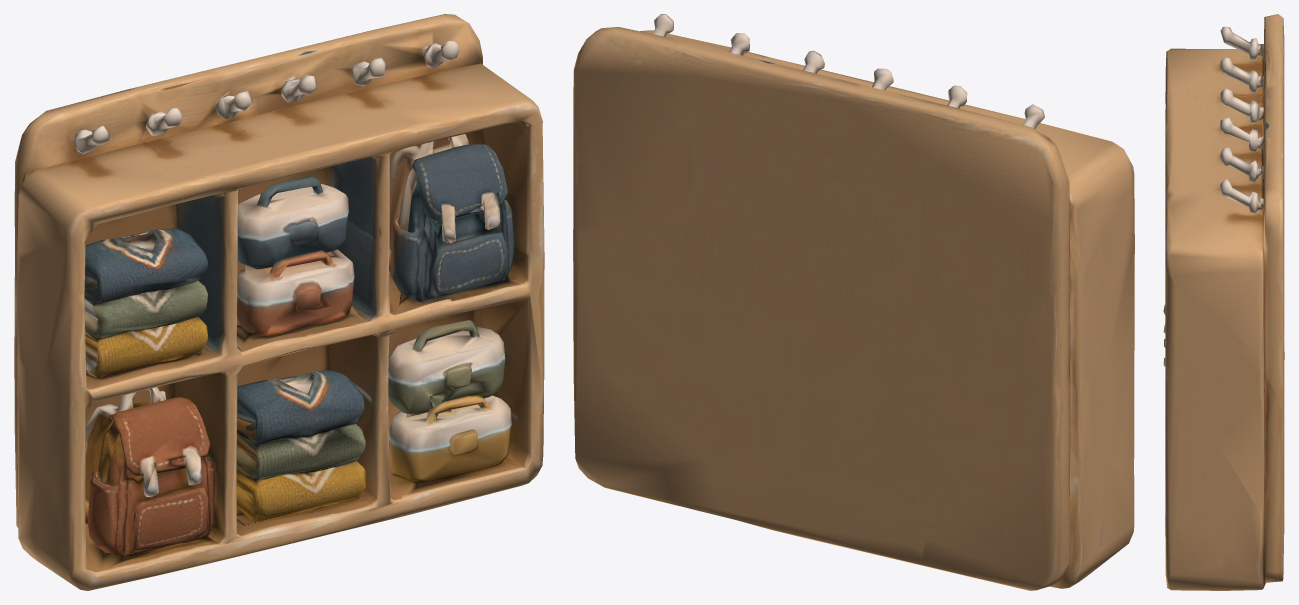
The model's file is lockers.high.glb.
3 renders of one model, left to right at view 1: azimuth 30°, elevation 25°; view 2: azimuth 150°, elevation 25°; view 3: azimuth 270°, elevation 25°, orthographic. The views are drawn at different scales.
Parts seen in each view (by area): view 1: tripo_node_b0fce065-342c-4e43-a012-e1b093b84d35; view 2: tripo_node_b0fce065-342c-4e43-a012-e1b093b84d35; view 3: tripo_node_b0fce065-342c-4e43-a012-e1b093b84d35.
Part boxes in pixels (x1=…): tripo_node_b0fce065-342c-4e43-a012-e1b093b84d35: x1=14, y1=14, x2=544, y2=590; tripo_node_b0fce065-342c-4e43-a012-e1b093b84d35: x1=573, y1=14, x2=1134, y2=590; tripo_node_b0fce065-342c-4e43-a012-e1b093b84d35: x1=1163, y1=14, x2=1284, y2=590.
Bounding box in the file's own units: 1.72 × 1.5 × 0.4184.
Materials: 1 (1 with a texture image).
